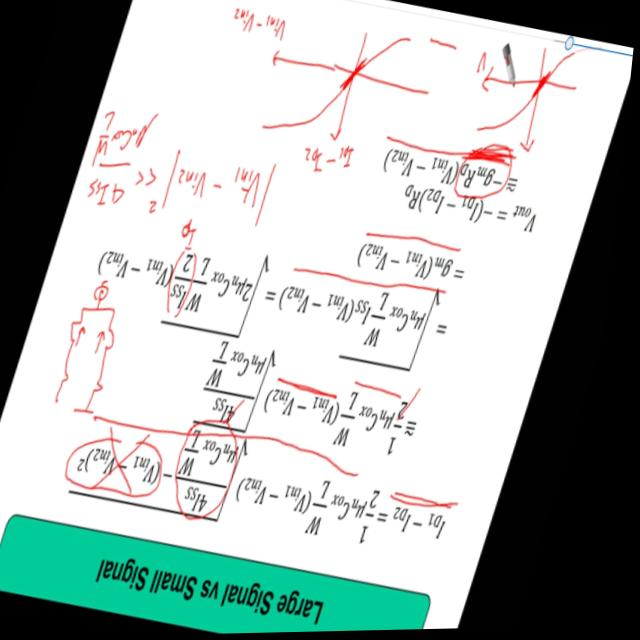panseo: (175, 0, 458, 214), (63, 90, 305, 274), (34, 256, 160, 431), (447, 31, 599, 172)
